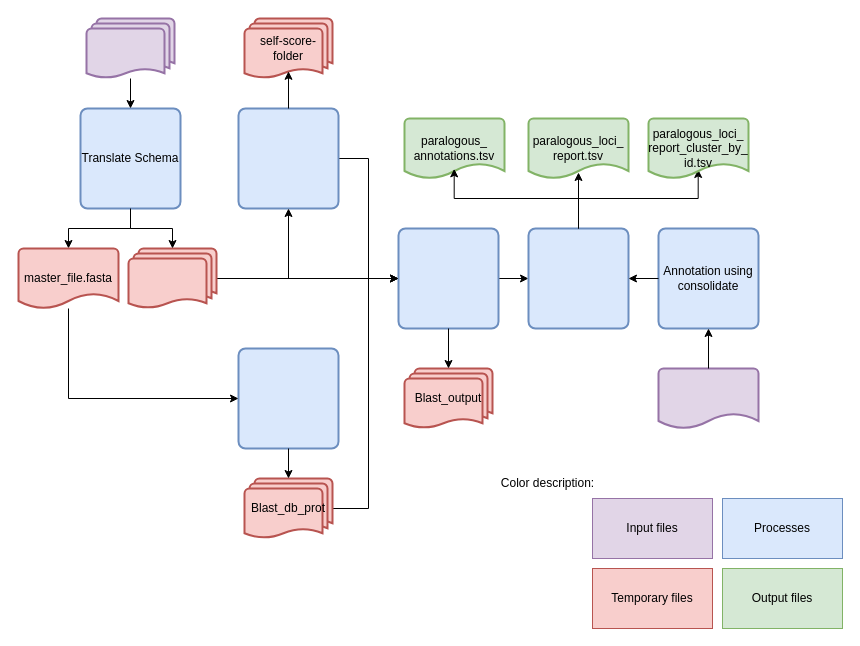
The diagram is 860 pixels wide and 646 high, and some of its shapes have lost their labels. The shapes that lost their labels are listed below. From the top down, each one's centre as x and y in pixels, then its label:
At pixel 130 48: "Schema".
At pixel 288 158: "Calculate loci self-score".
At pixel 172 278: "Translation".
At pixel 448 278: "Run BLASTp".
At pixel 578 278: "Write results".
At pixel 288 398: "Create BLAST database".
At pixel 708 398: "Annotation file".
